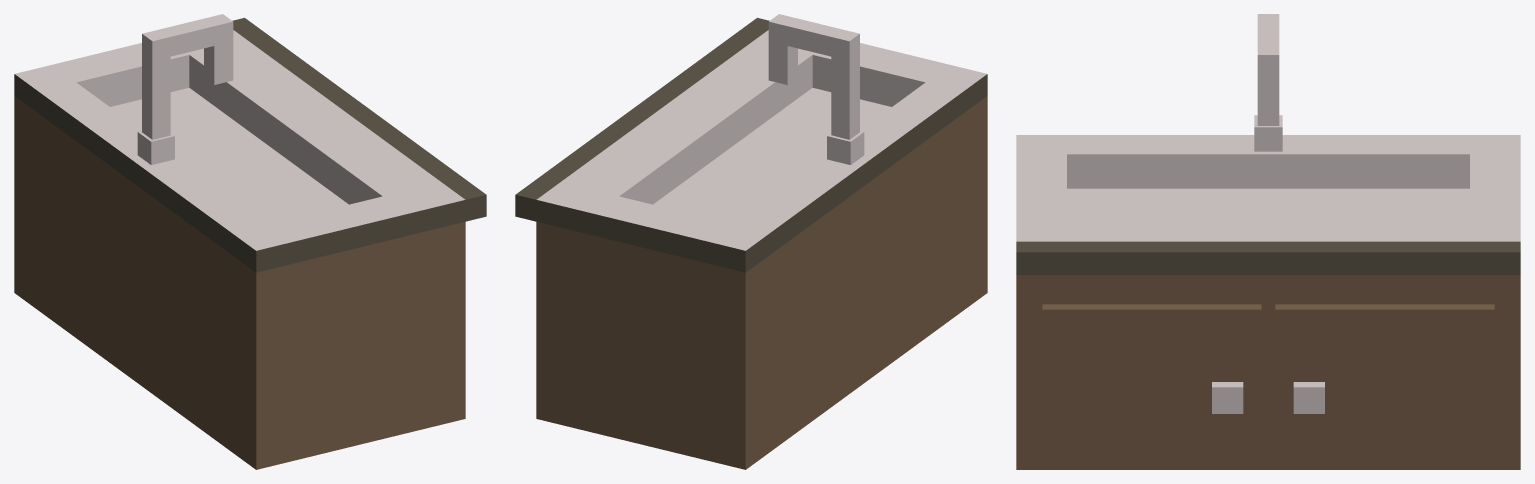
Rendered from Sink.fbx.
3 views of the same model, side by side, from view 1: azimuth 30°, elevation 25°; view 2: azimuth 150°, elevation 25°; view 3: azimuth 270°, elevation 25° (orthographic). The views are drawn at different scales.
Parts seen in each view (by area): view 1: geo_Sink; view 2: geo_Sink; view 3: geo_Sink.
Part boxes in pixels (x1,y1,x2,y2): geo_Sink: (14,14,486,469); geo_Sink: (515,14,987,469); geo_Sink: (1016,14,1520,469).
Bounding box in the file's own units: 1.1 × 1.56 × 2.
